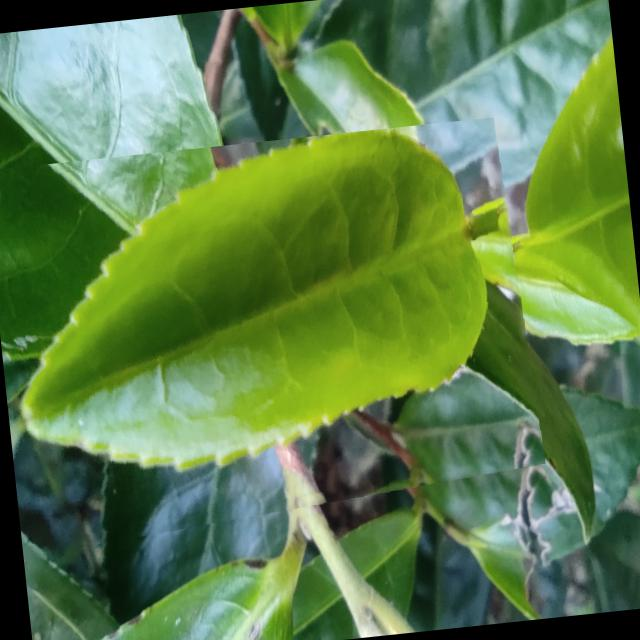Category C(4-7 days): (0, 114, 549, 556)
